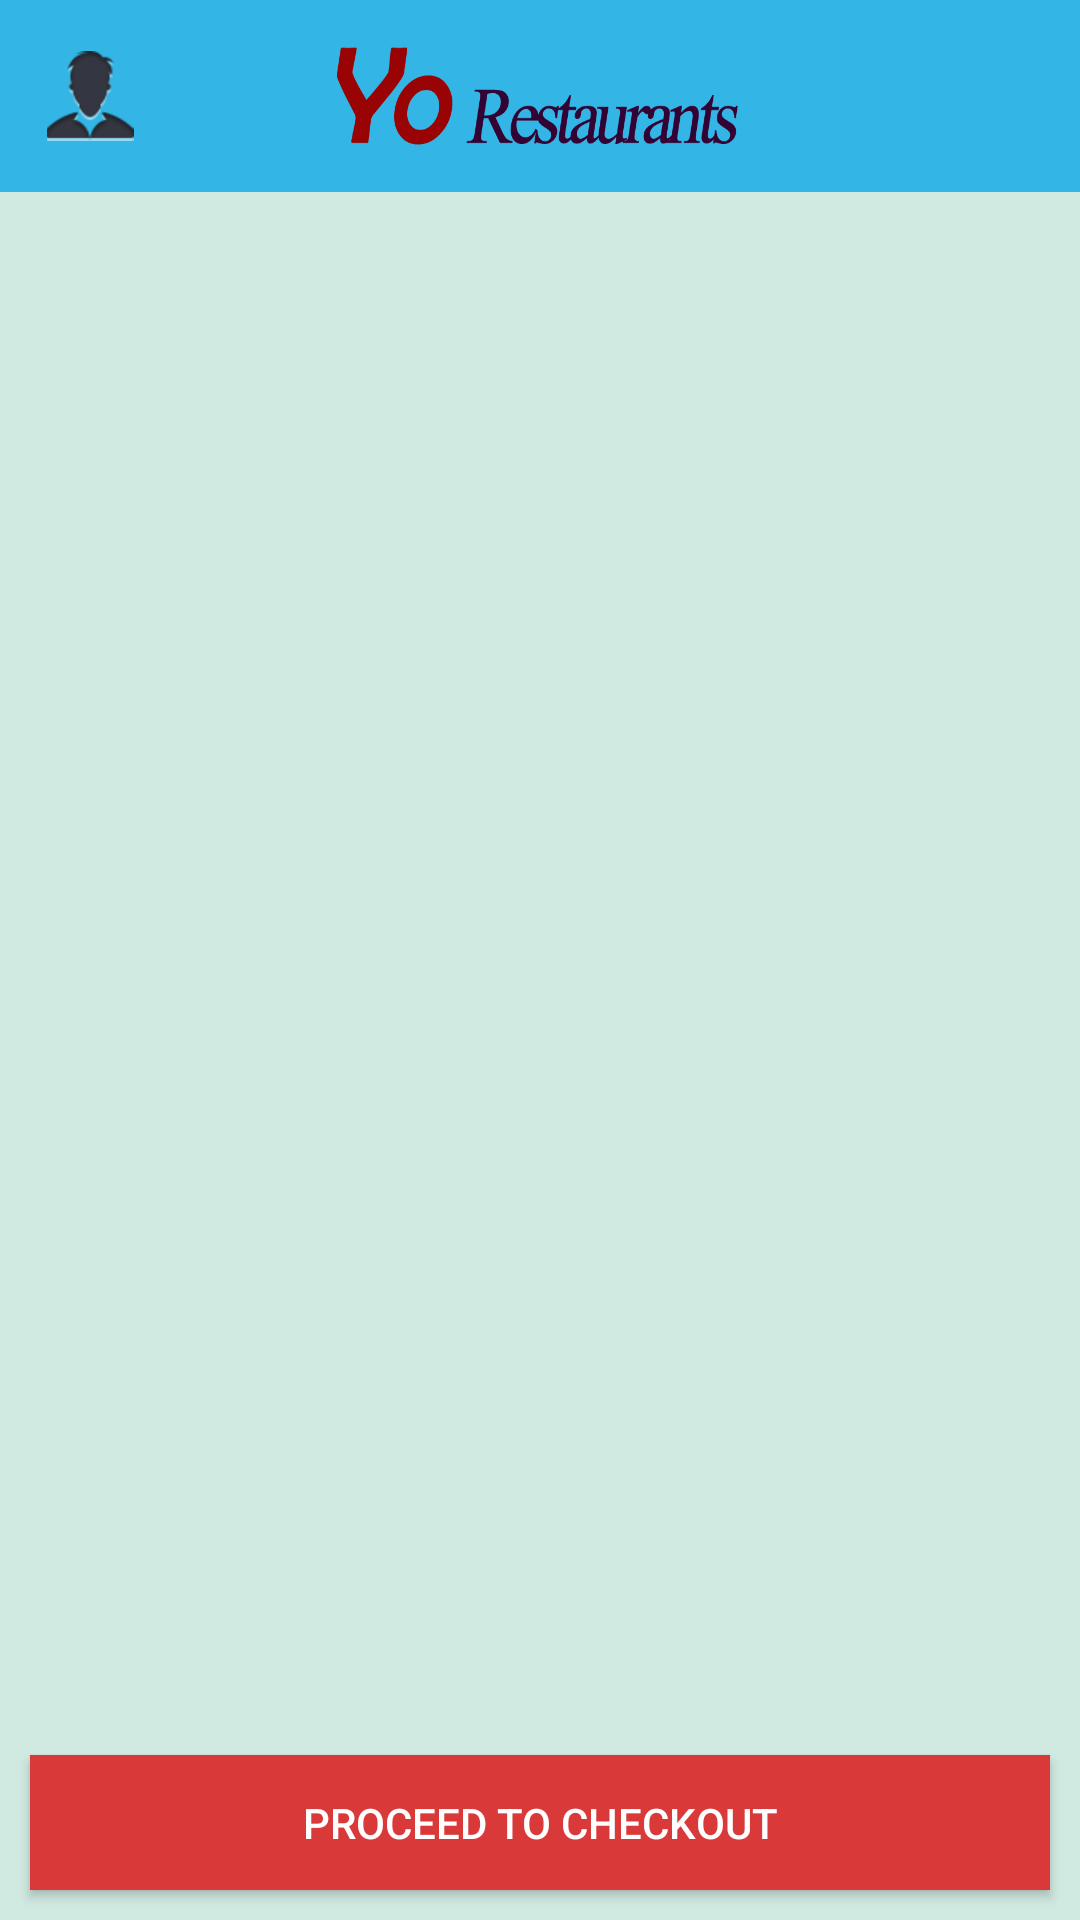

Locate icon controls on the screen. Image size 1080*1920, boxes as Rect(x1, y1, x2, y2).
profile: Rect(47, 51, 134, 141)
